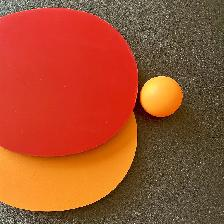YellowBall: (139, 76, 182, 117)
